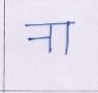aa_matra: (65, 25, 69, 55)
